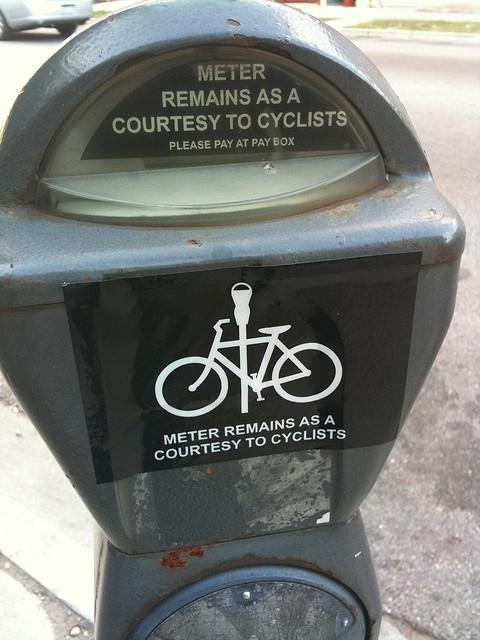bicycle: (154, 318, 343, 418)
car: (0, 2, 92, 40)
